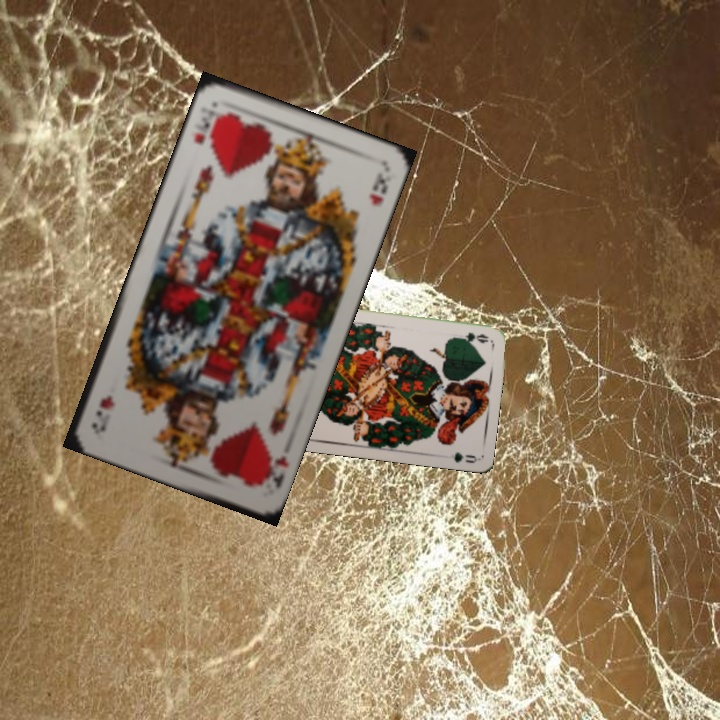GO: (451, 328, 491, 346)
HK: (254, 445, 291, 492), (190, 107, 222, 148)
